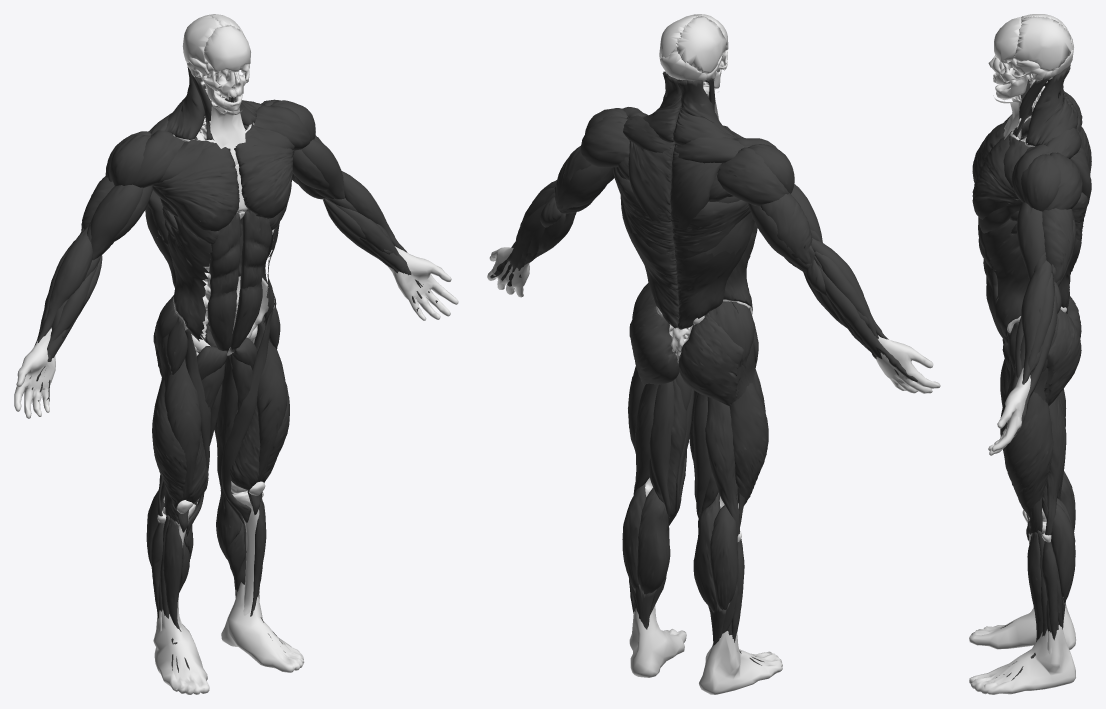
File: corpo-4.glb
3 views of the same model, side by side, from view 1: azimuth 30°, elevation 25°; view 2: azimuth 150°, elevation 25°; view 3: azimuth 270°, elevation 25° (orthographic).
Visible parts, largest first — view 1: pele, deco, peito_medial, fundo, quad_reto_femoral, antebraco_flexores, adutores, obliquos, abdomen_supra, biceps_longa, antebraco_braquiorradial, ombro_frontal (+14 smaller); view 2: pele, panturrilha_gastro, gluteo_maximo, dorsal_inferior, isquio_semitendineo, antebraco_extensores, dorsal_superior, trapezio_inferior, fundo, ombro_posterior, isquio_biceps_femoral, quad_vasto_lateral (+11 smaller); view 3: pele, fundo, deco, quad_vasto_lateral, obliquos, peito_medial, trapezio_superior, gluteo_maximo, panturrilha_gastro, antebraco_extensores, isquio_biceps_femoral, triceps_lateral (+19 smaller).
Part boxes in pixels (x1,y1,x2,y2): pele: (14, 100, 458, 694); deco: (151, 69, 285, 672); peito_medial: (152, 137, 294, 231); fundo: (163, 14, 323, 503); quad_reto_femoral: (164, 316, 286, 532); antebraco_flexores: (29, 197, 437, 401); adutores: (187, 337, 257, 537); obliquos: (167, 216, 279, 341); abdomen_supra: (209, 209, 271, 293); biceps_longa: (90, 138, 345, 260); antebraco_braquiorradial: (37, 171, 407, 342); ombro_frontal: (132, 104, 310, 187); pele: (487, 86, 940, 694); panturrilha_gastro: (622, 483, 738, 610); gluteo_maximo: (629, 302, 743, 406); dorsal_inferior: (624, 224, 746, 329); isquio_semitendineo: (649, 379, 718, 520); antebraco_extensores: (490, 187, 917, 382); dorsal_superior: (613, 167, 754, 256); trapezio_inferior: (628, 141, 722, 229); fundo: (645, 14, 752, 508); ombro_posterior: (580, 116, 788, 206); isquio_biceps_femoral: (633, 383, 739, 535); quad_vasto_lateral: (628, 366, 768, 505); pele: (969, 95, 1075, 694); fundo: (988, 14, 1073, 521); deco: (996, 76, 1065, 680); quad_vasto_lateral: (1004, 392, 1053, 532); obliquos: (983, 218, 1029, 339); peito_medial: (972, 120, 1023, 219); trapezio_superior: (1025, 65, 1077, 146); gluteo_maximo: (1044, 296, 1081, 406); panturrilha_gastro: (1051, 471, 1075, 602); antebraco_extensores: (1014, 273, 1061, 436); isquio_biceps_femoral: (1042, 389, 1066, 535); triceps_lateral: (1042, 208, 1074, 282).
Size of the model in its own units: 1.19 by 1.65 by 0.2828.
1 material, 1 textured.
